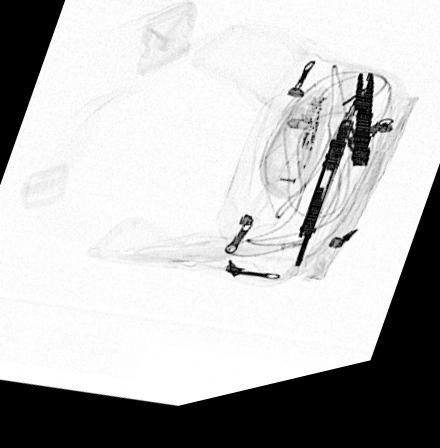HandCuffs: (290, 90, 376, 285)
